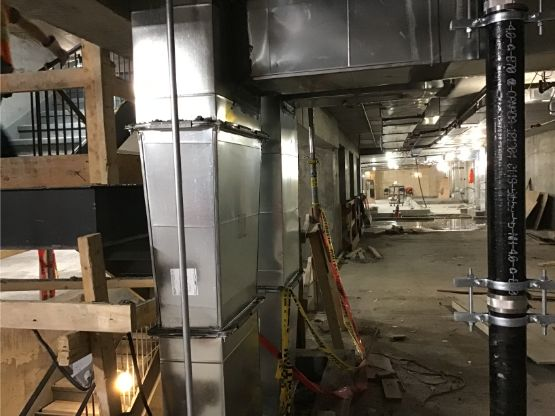Duct: (119, 1, 276, 416), (237, 1, 555, 91), (368, 86, 554, 169)
